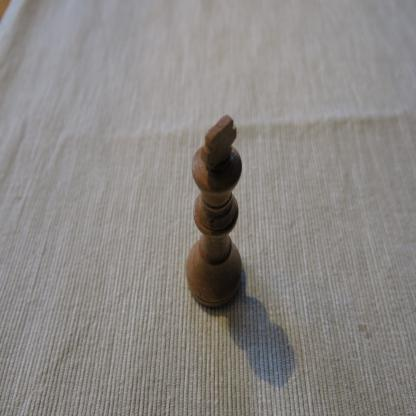white-king: (185, 113, 244, 313)
